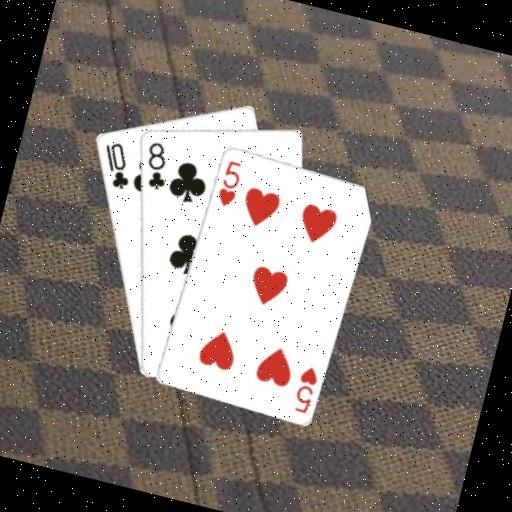10C: (93, 137, 139, 193)
5H: (289, 361, 322, 416), (213, 155, 245, 209)
8C: (136, 137, 176, 193)
